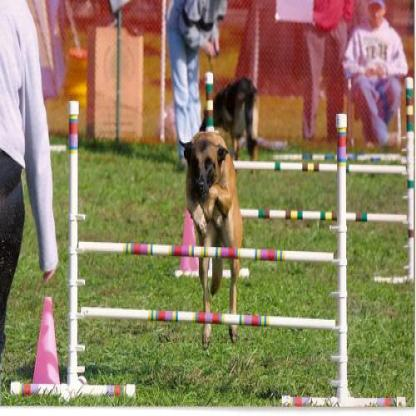malinois: (178, 128, 245, 349)
